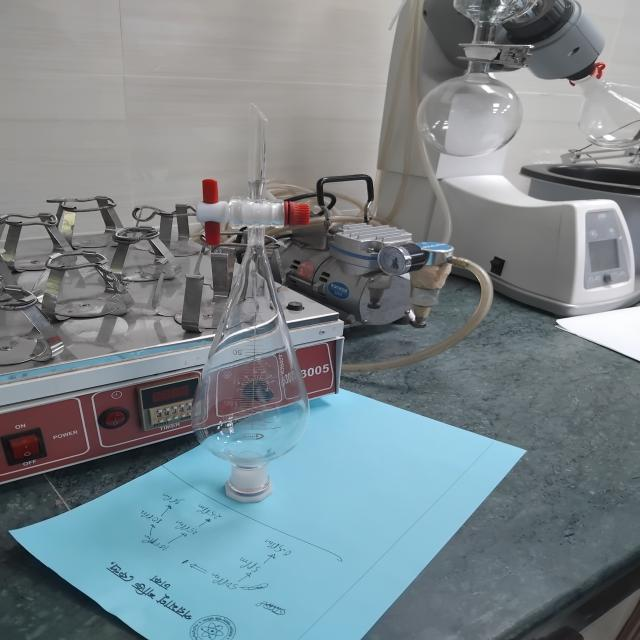Separating_Funnel: (167, 81, 347, 524)
